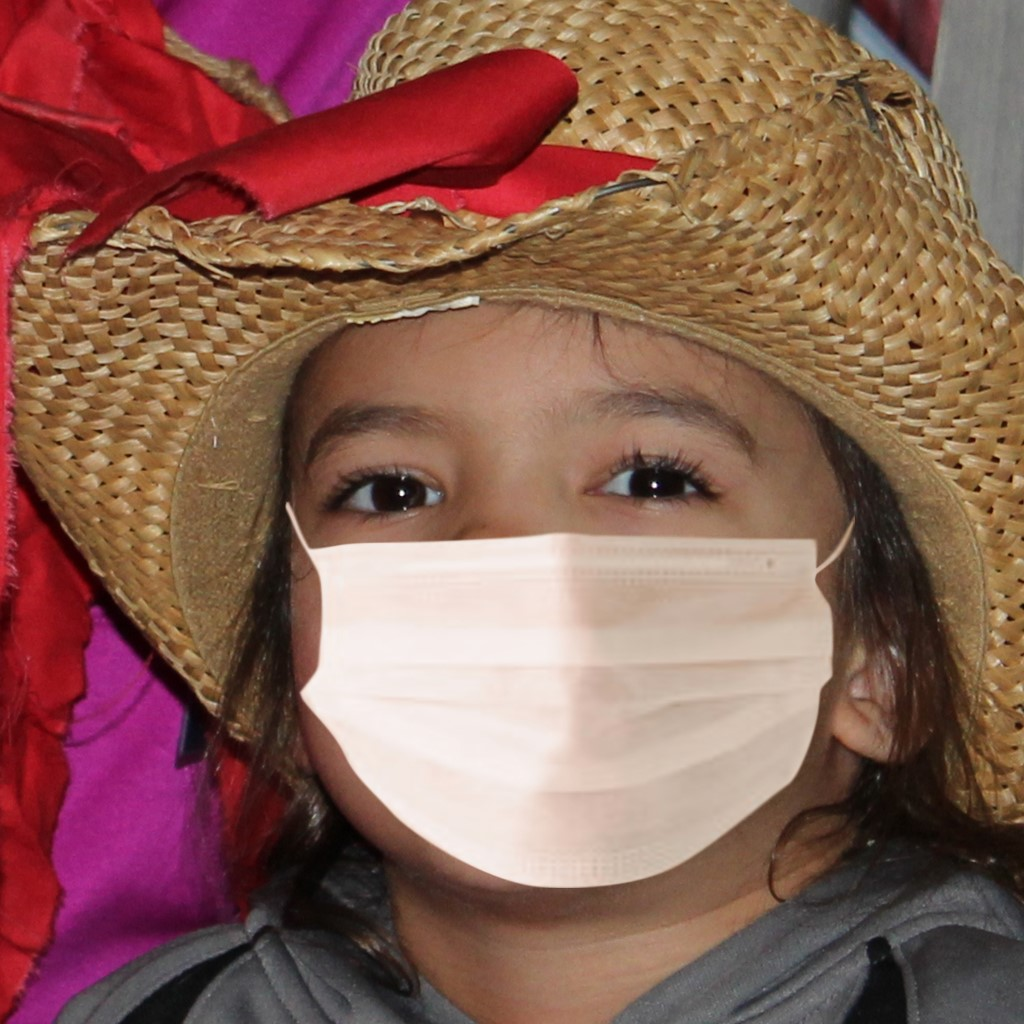con_mascara: (278, 254, 881, 913)
